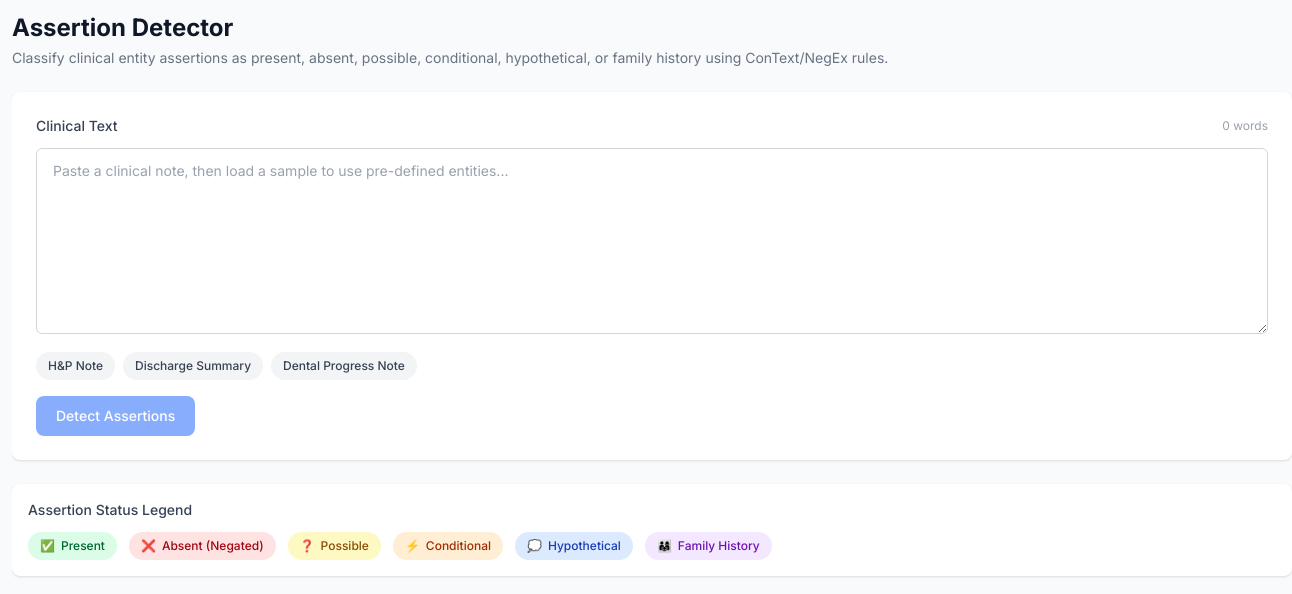
AssertionDetector › word count › displays word count for entered text
Replace the text in the text box with placeholder "Paste a clinical note" with "Patient denies pain" at [652, 241], box top-left (36, 148), bottom-right (1268, 334)
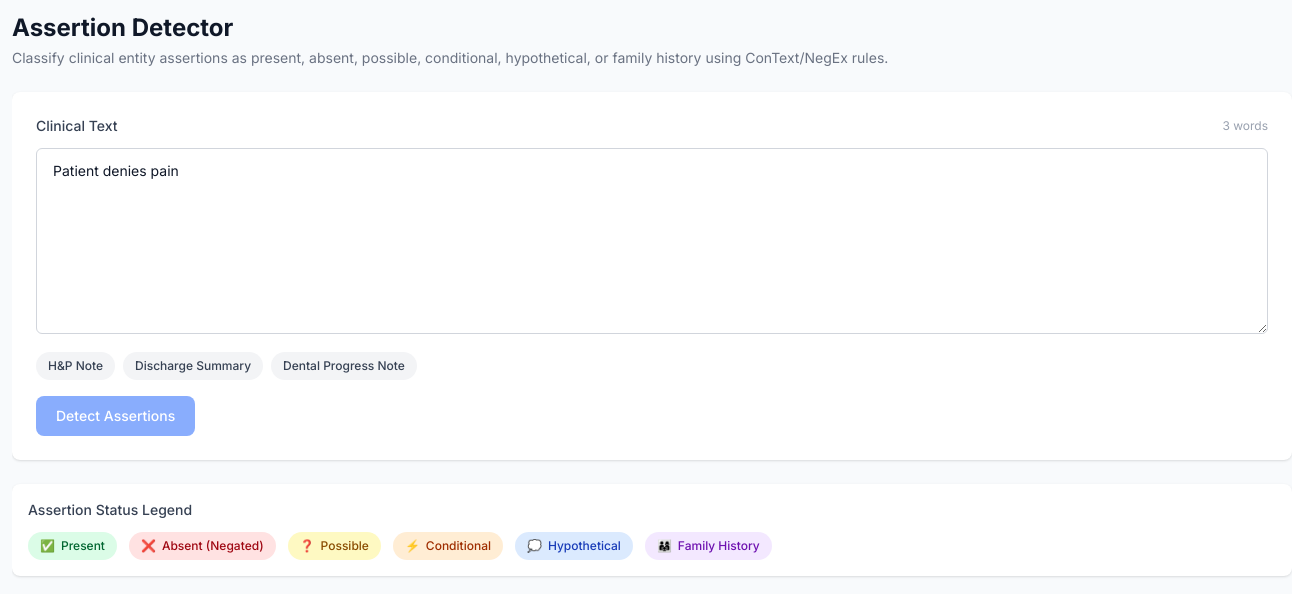
Result: the text "3 words" is shown at top-left (1222, 118), bottom-right (1268, 134)
